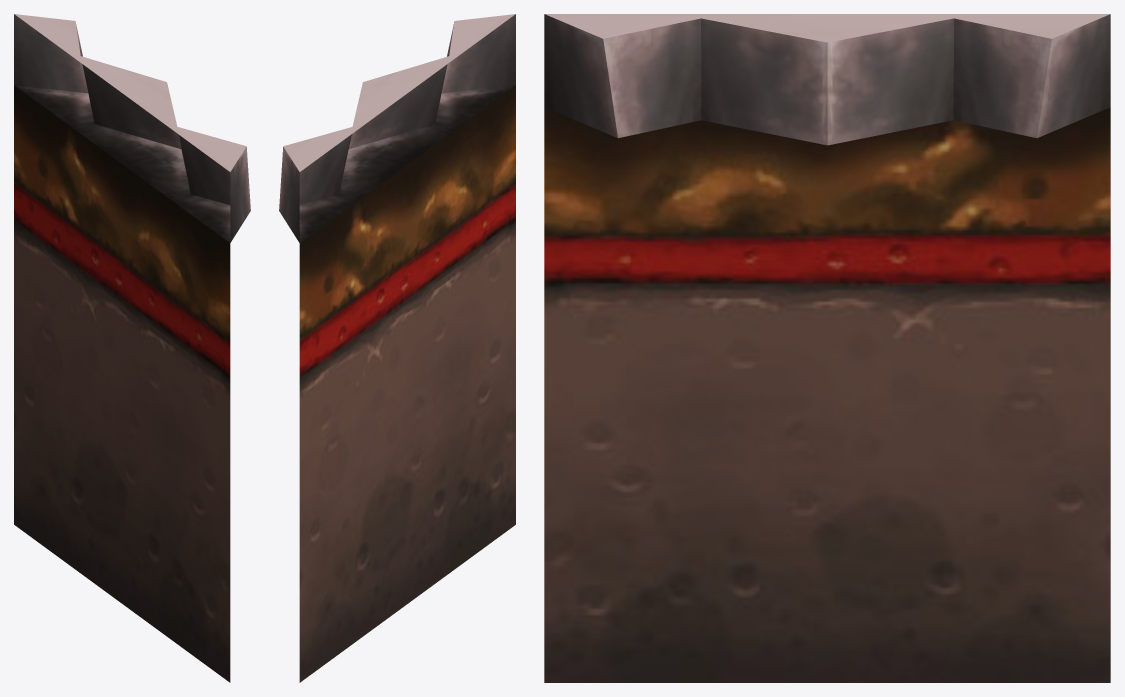
The model's file is side_noline.fbx.
3 renders of one model, left to right at view 1: azimuth 30°, elevation 25°; view 2: azimuth 150°, elevation 25°; view 3: azimuth 270°, elevation 25°, orthographic. The views are drawn at different scales.
Parts seen in each view (by area): view 1: side_noline; view 2: side_noline; view 3: side_noline.
Boxes of the visible parts, box(x1,y1,x2,y2) form: side_noline: box(14, 14, 250, 682); side_noline: box(279, 14, 515, 682); side_noline: box(544, 14, 1110, 682).
Bounding box in the file's own units: 10.68 × 66.67 × 86.87.
